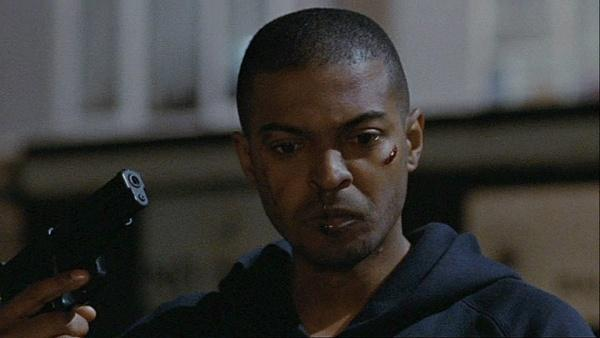Gun: (0, 169, 149, 320)
